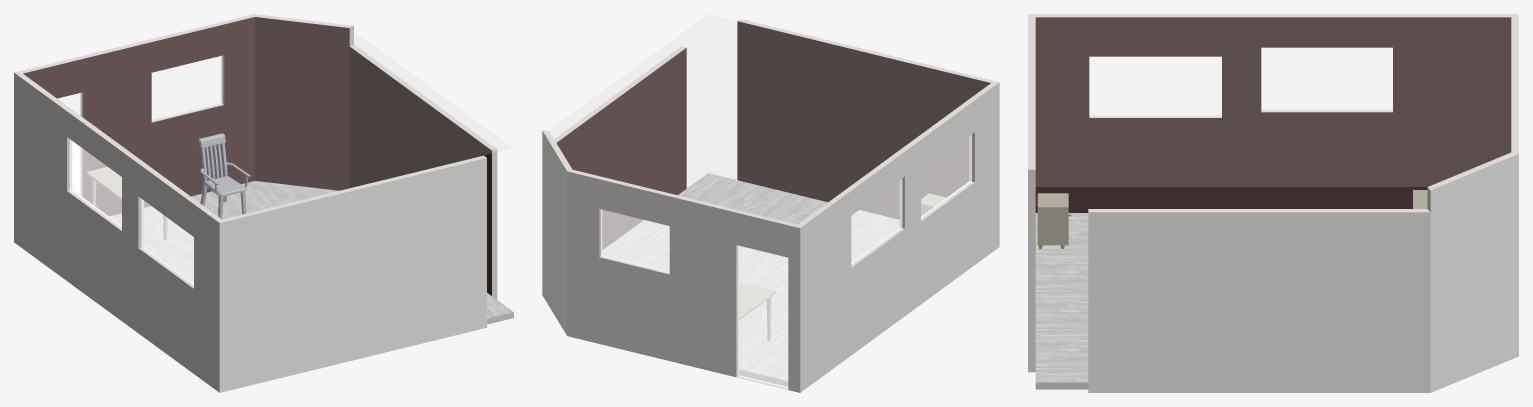
3 views of the same model, side by side, from view 1: azimuth 30°, elevation 25°; view 2: azimuth 150°, elevation 25°; view 3: azimuth 270°, elevation 25° (orthographic). The views are drawn at different scales.
Parts seen in each view (by area): view 1: wall_13, ceiling_Other_0, wall_9, wall_3, wall_0, wall_4, ceiling_Other_2, floor_Other_0, window_1, window_4, window_0, window_3 (+11 smaller); view 2: ceiling_Other_0, wall_2, wall_17, wall_9, floor_Other_0, wall_4, ceiling_Other_2, door_0, door_2, wall_5, window_1, window_4 (+11 smaller); view 3: wall_1, ceiling_Other_0, wall_21, wall_5, ceiling_Other_2, window_0, floor_Other_0, window_3, window_2, window_5, wall_10, storage0 (+7 smaller).
Part boxes in pixels (left/top/right/bottom): wall_13: left=219, top=158, right=486, bottom=392; ceiling_Other_0: left=24, top=17, right=453, bottom=218; wall_9: left=14, top=73, right=219, bottom=392; wall_3: left=23, top=17, right=254, bottom=215; wall_0: left=255, top=17, right=349, bottom=190; wall_4: left=349, top=47, right=491, bottom=295; ceiling_Other_2: left=256, top=17, right=511, bottom=161; floor_Other_0: left=110, top=181, right=513, bottom=318; window_1: left=152, top=56, right=222, bottom=120; window_4: left=152, top=56, right=222, bottom=120; window_0: left=70, top=139, right=121, bottom=227; window_3: left=70, top=140, right=121, bottom=227; ceiling_Other_0: left=574, top=29, right=989, bottom=223; wall_2: left=737, top=21, right=990, bottom=219; wall_17: left=567, top=171, right=800, bottom=392; wall_9: left=800, top=82, right=999, bottom=392; floor_Other_0: left=602, top=173, right=899, bottom=380; wall_4: left=556, top=48, right=686, bottom=249; ceiling_Other_2: left=549, top=14, right=764, bottom=168; door_0: left=738, top=245, right=787, bottom=387; door_2: left=738, top=246, right=787, bottom=387; wall_5: left=542, top=131, right=567, bottom=335; window_1: left=601, top=209, right=669, bottom=272; window_4: left=601, top=210, right=669, bottom=272; wall_1: left=1035, top=17, right=1511, bottom=212; ceiling_Other_0: left=1036, top=18, right=1510, bottom=151; wall_21: left=1088, top=212, right=1430, bottom=392; wall_5: left=1430, top=154, right=1518, bottom=392; ceiling_Other_2: left=1036, top=153, right=1507, bottom=186; window_0: left=1261, top=48, right=1392, bottom=110; floor_Other_0: left=1035, top=213, right=1088, bottom=382; window_3: left=1261, top=48, right=1392, bottom=110; window_2: left=1089, top=57, right=1221, bottom=116; window_5: left=1089, top=57, right=1221, bottom=116; wall_10: left=1028, top=14, right=1518, bottom=17; storage0: left=1037, top=193, right=1071, bottom=248.
Size of the model in its own units: 5.43 by 2.91 by 6.38.
18 materials, 1 textured.
